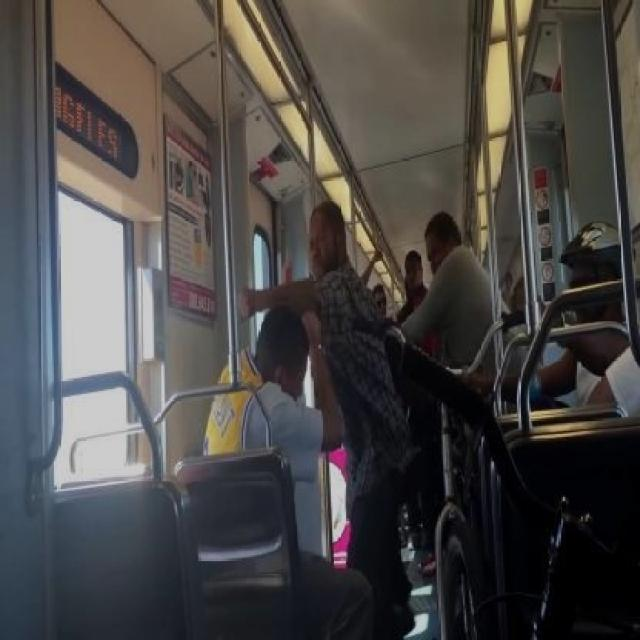fight: (183, 198, 416, 638)
